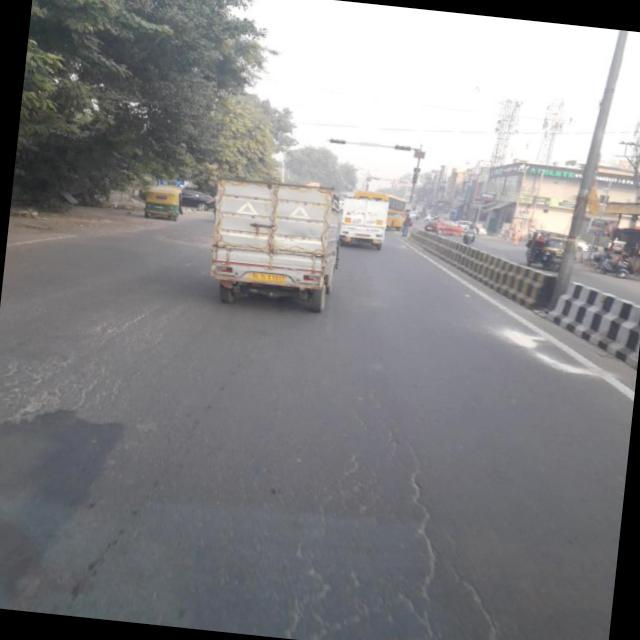crack: (243, 359, 511, 640), (0, 290, 166, 440)
